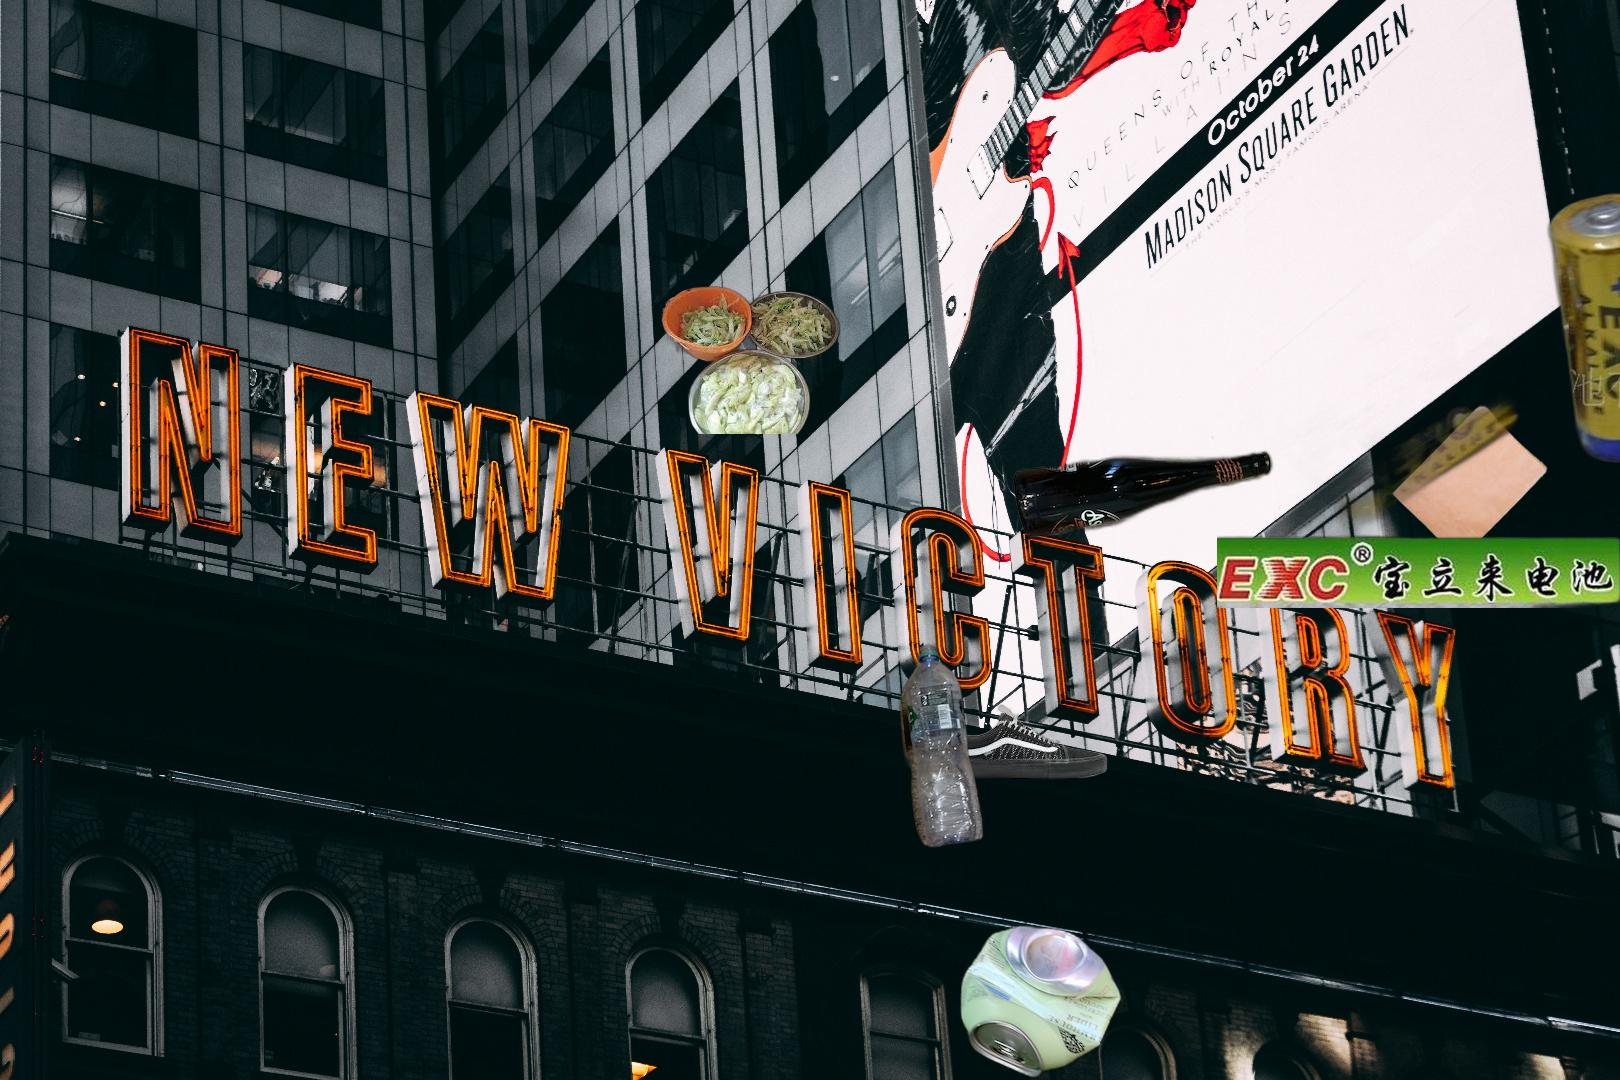battery: (1217, 170, 1620, 607)
biological: (655, 284, 849, 434)
glass: (1009, 445, 1276, 544)
metal-cans: (956, 918, 1393, 1080)
paper-bag: (1391, 403, 1549, 563)
plastic-bottles: (897, 640, 986, 852)
shoes: (937, 702, 1110, 782)
